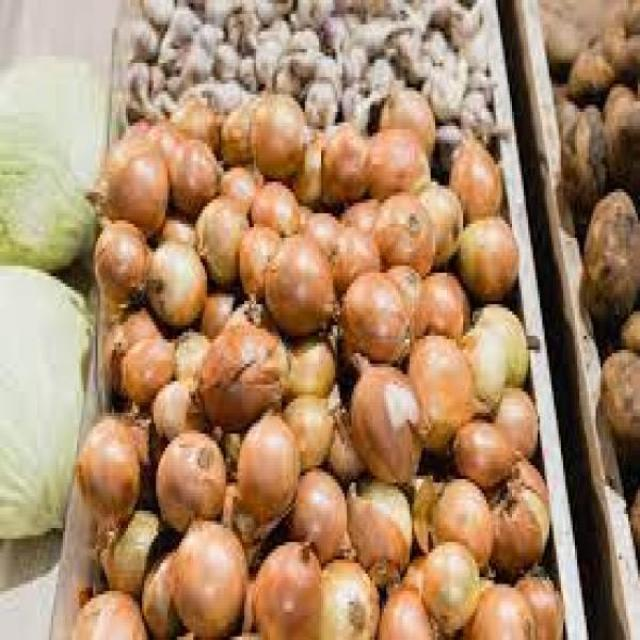Onion: (350, 366, 431, 488), (206, 322, 302, 414), (168, 530, 249, 632), (225, 414, 294, 530), (251, 553, 351, 627), (144, 431, 224, 519), (261, 242, 335, 331), (76, 429, 153, 508), (108, 324, 183, 403), (249, 109, 326, 181), (116, 144, 180, 229), (411, 345, 471, 427), (440, 485, 502, 564), (142, 242, 198, 322), (288, 472, 347, 547), (459, 217, 513, 297), (421, 541, 473, 617), (95, 231, 144, 291)
